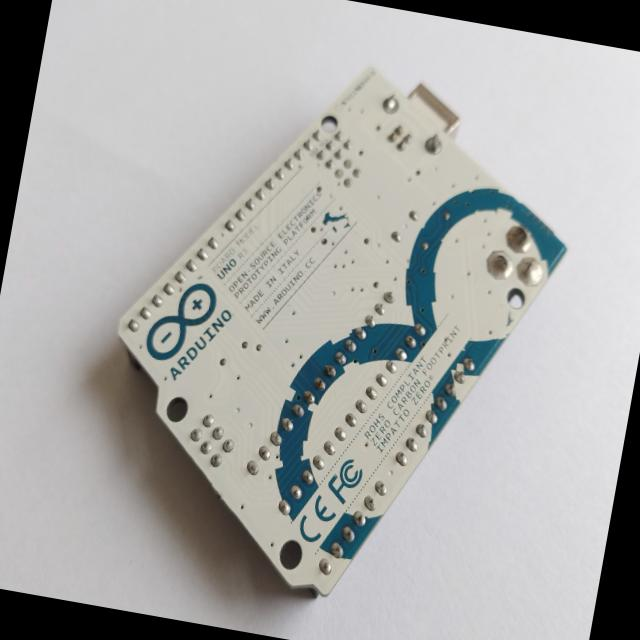arduino: (72, 11, 601, 637)
